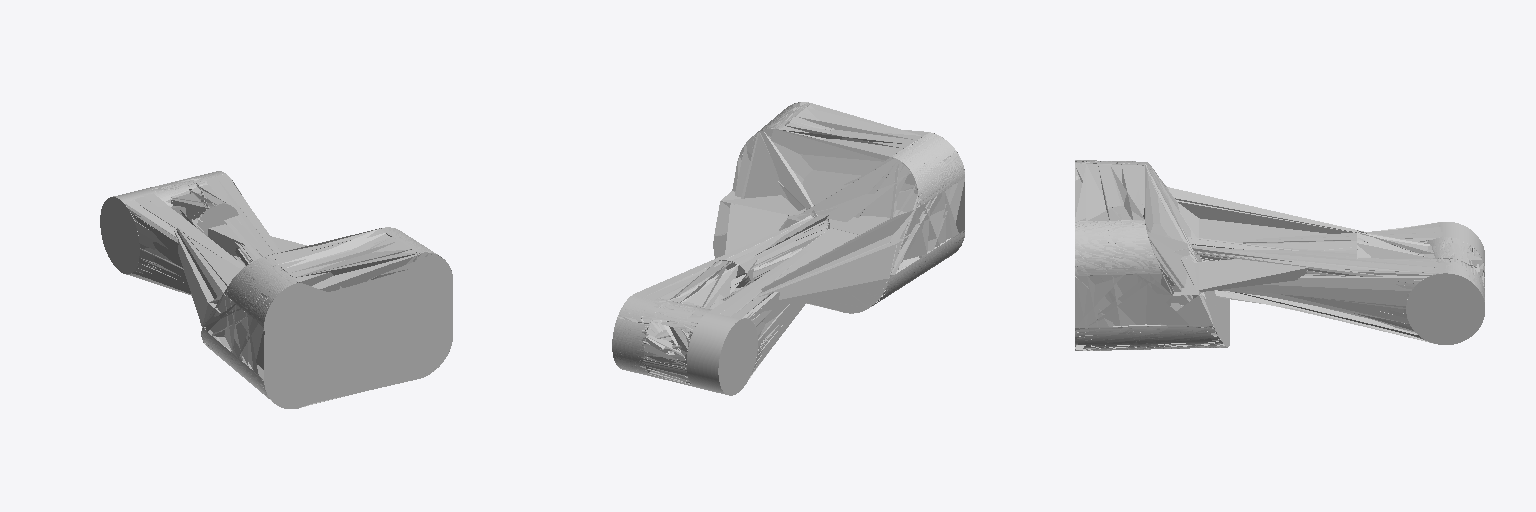
File: Control 02.obj
3 renders of one model, left to right at view 1: azimuth 30°, elevation 25°; view 2: azimuth 150°, elevation 25°; view 3: azimuth 270°, elevation 25°, orthographic.
Visible parts, largest first — view 1: Assem1（part); view 2: Assem1（part); view 3: Assem1（part).
Part boxes in pixels (bbox=[...]): Assem1（part): bbox=[100, 171, 452, 408]; Assem1（part): bbox=[612, 102, 964, 395]; Assem1（part): bbox=[1075, 160, 1484, 350].
Bounding box in the file's own units: 5.5 × 3.51 × 10.33.